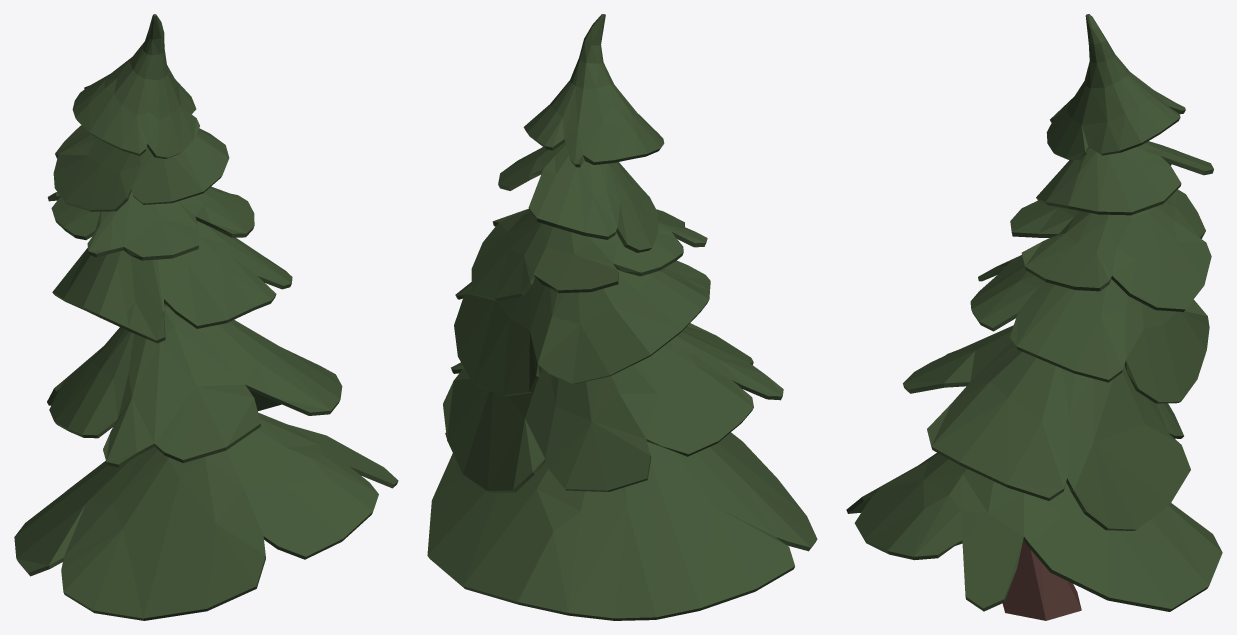
File: PineTree_3.glb
3 views of the same model, side by side, from view 1: azimuth 30°, elevation 25°; view 2: azimuth 150°, elevation 25°; view 3: azimuth 270°, elevation 25° (orthographic). The views are drawn at different scales.
Parts seen in each view (by area): view 1: PineTree_3; view 2: PineTree_3; view 3: PineTree_3.
Boxes of the visible parts, x1,y1,x2,y2 form: PineTree_3: (14,14,398,620); PineTree_3: (427,14,817,620); PineTree_3: (846,14,1222,620).
Size of the model in its own units: 2.16 by 3.3 by 1.95.
